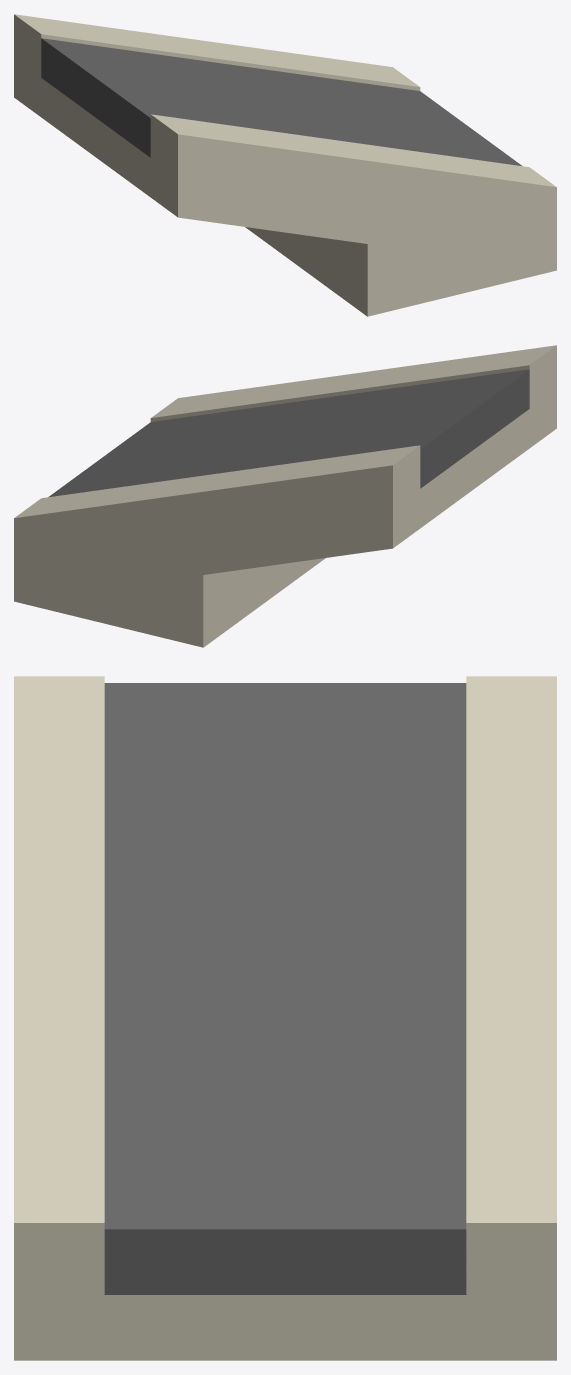
Rendered from tile122.dae.
3 views of the same model, one above another, from view 1: azimuth 30°, elevation 25°; view 2: azimuth 150°, elevation 25°; view 3: azimuth 270°, elevation 25° (orthographic). The views are drawn at different scales.
Parts seen in each view (by area): view 1: tile122; view 2: tile122; view 3: tile122.
Boxes of the visible parts, x1,y1,x2,y2 form: tile122: (14,14,556,316); tile122: (14,345,556,647); tile122: (14,676,556,1360).
Size of the model in its own units: 1 by 0.5767 by 0.75.
